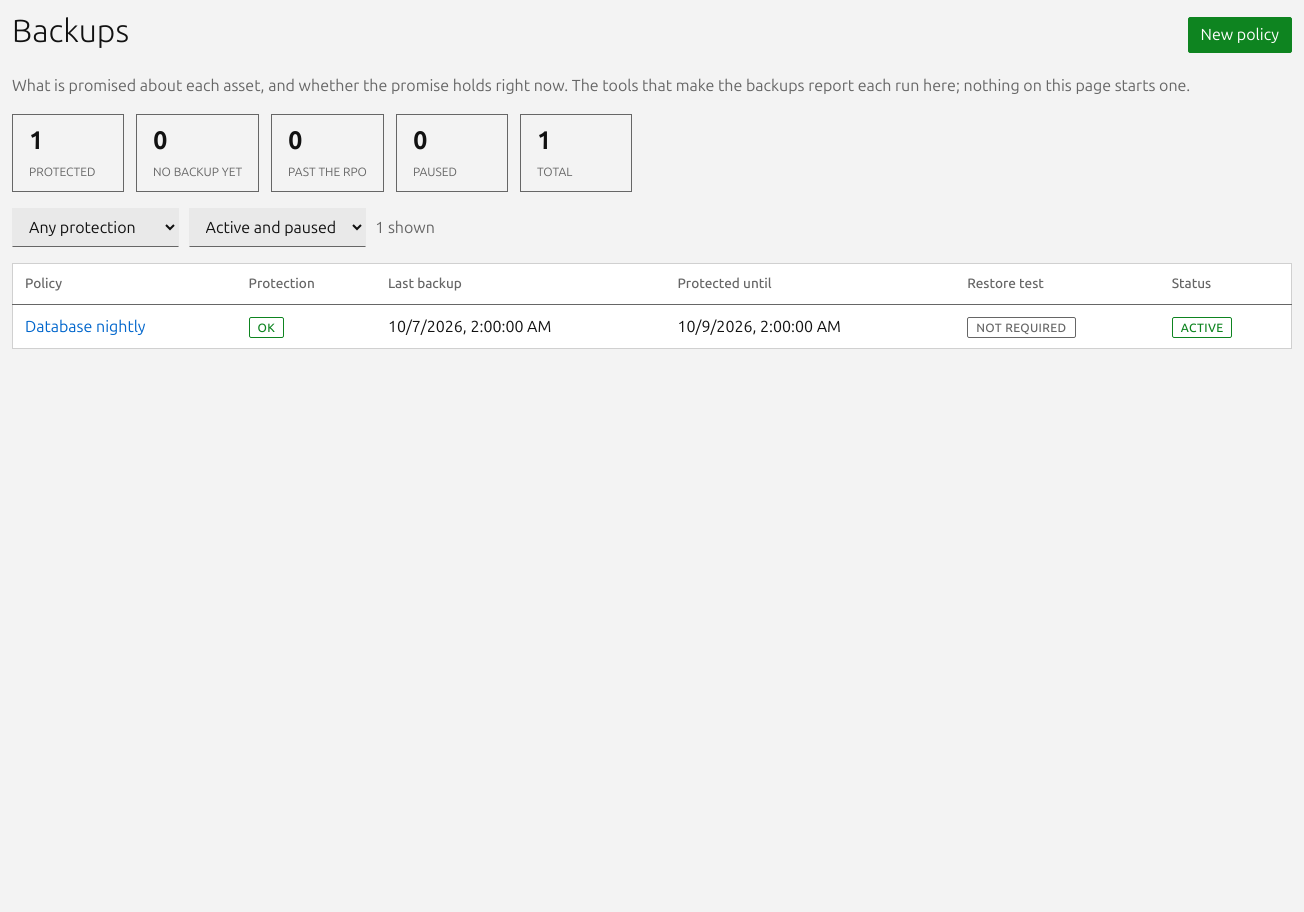
a policy in detail › says when the objective was missed, and when no run was reported yet
What coordinates should you click on to do the following:
click the button "Database nightly"
I would click on:
 (85, 327)
Its box is [25,315,146,339].
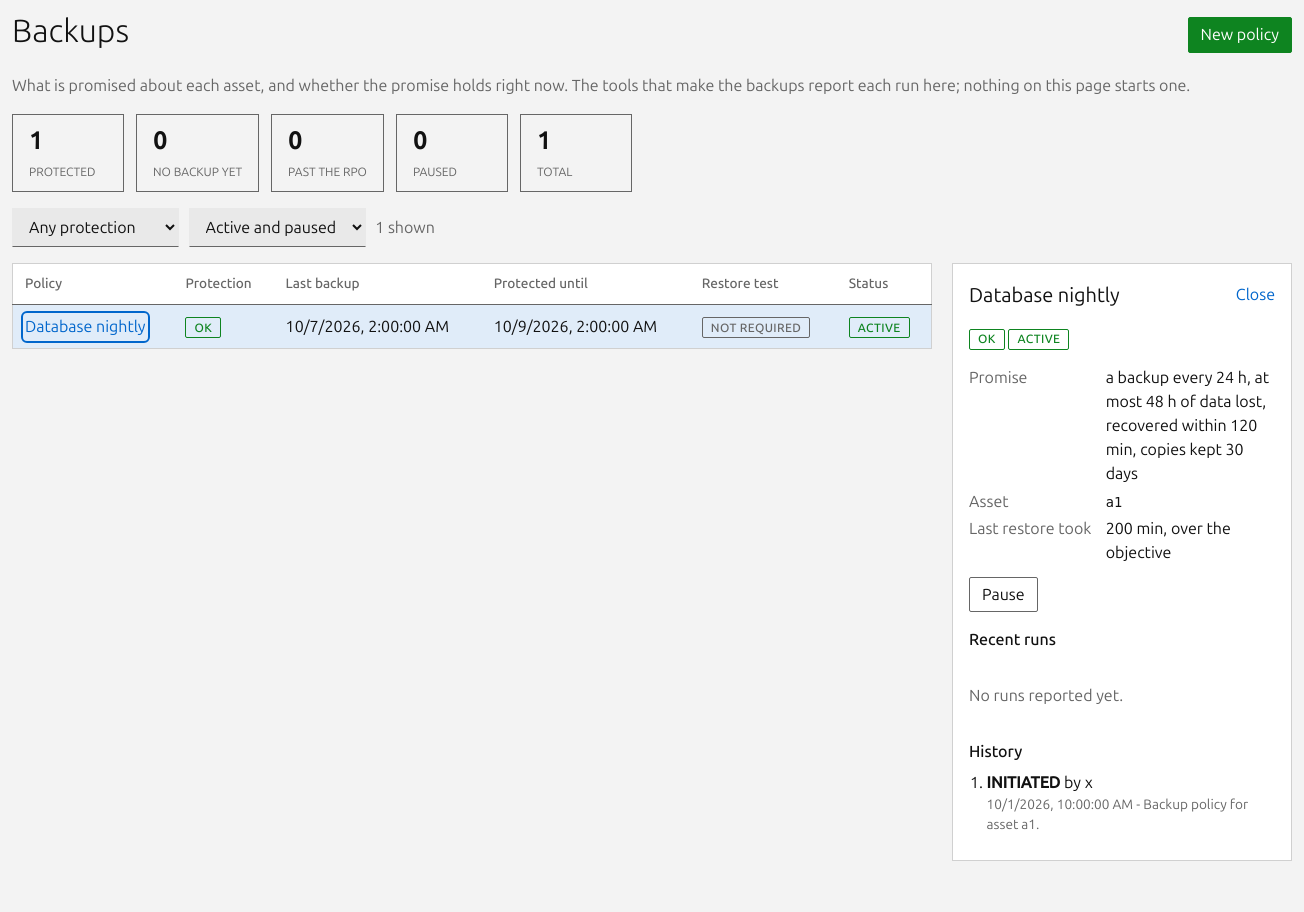
Result: the text "200 min, over the objective" is shown at [1106,519,1231,562]
Result: the text "No runs reported yet." is shown at [969,686,1123,705]
